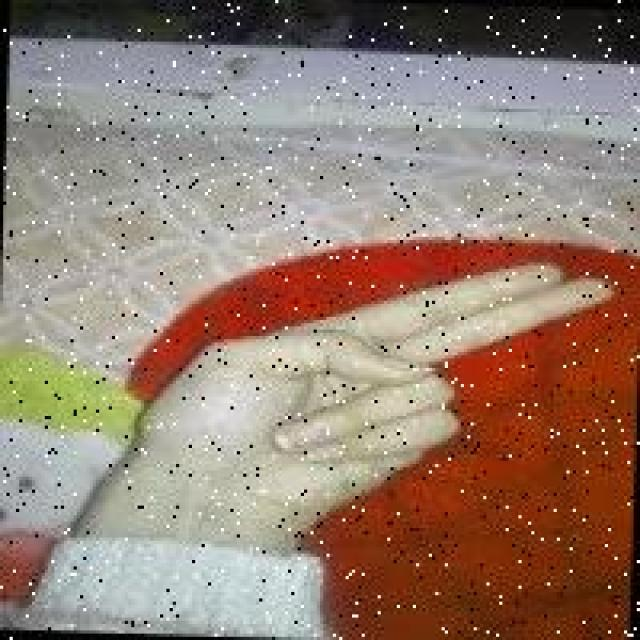H: (139, 242, 616, 520)
